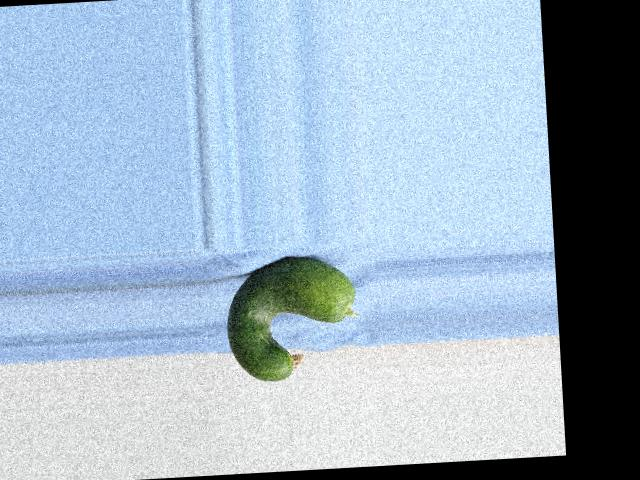cucumber: (223, 254, 360, 383)
